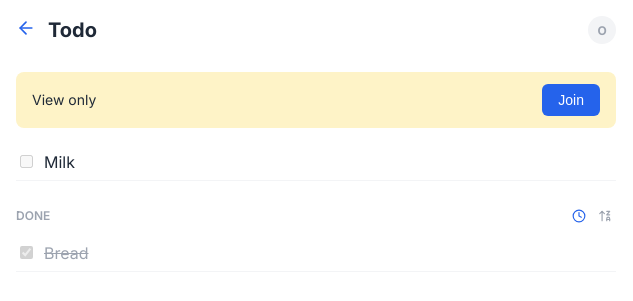
ListDetailPage › joins a list when Join is clicked
Check: the text "View only" is shown, box x1=32 y1=91 x2=96 y2=108
Click the button "Join" at (571, 100), box x1=542 y1=84 x2=600 y2=116
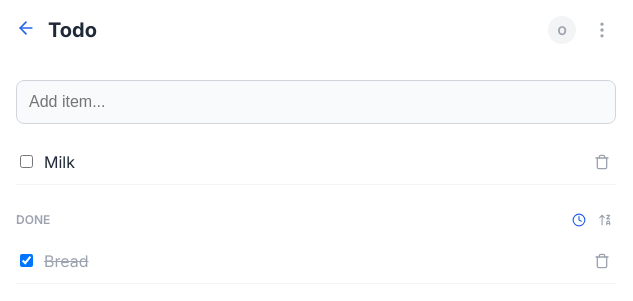
Check: the text "View only" is gone
